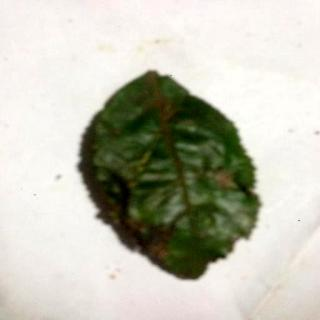Red Leaf Spot: (95, 72, 262, 282)
